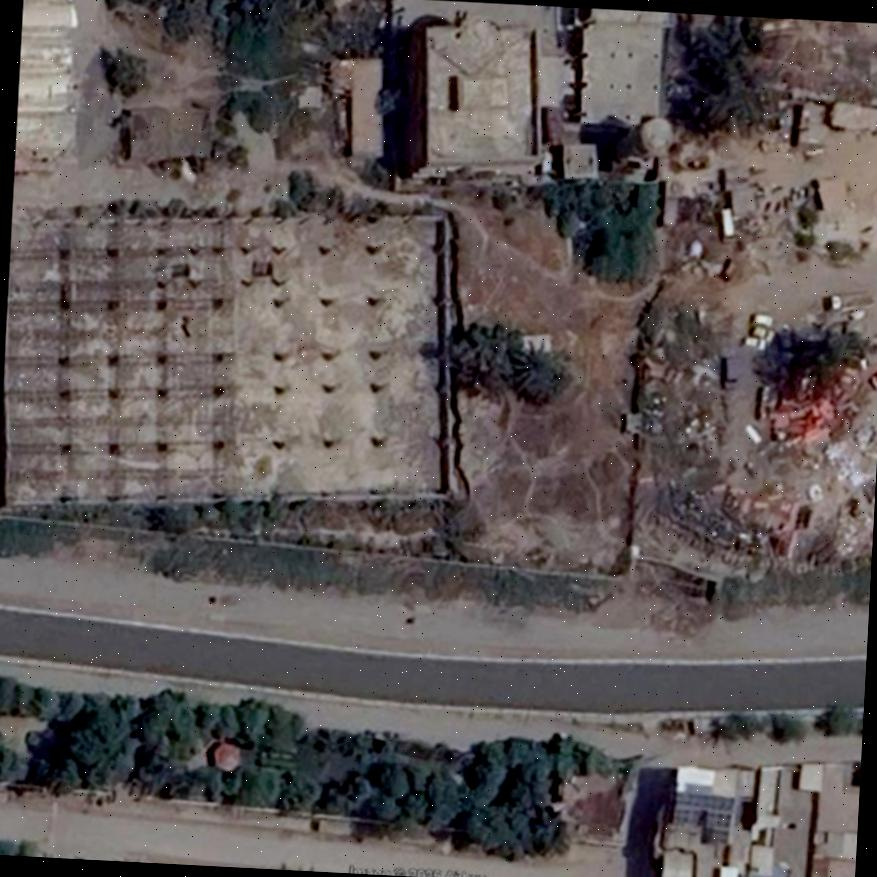Solarpanel: (673, 790, 732, 825)
